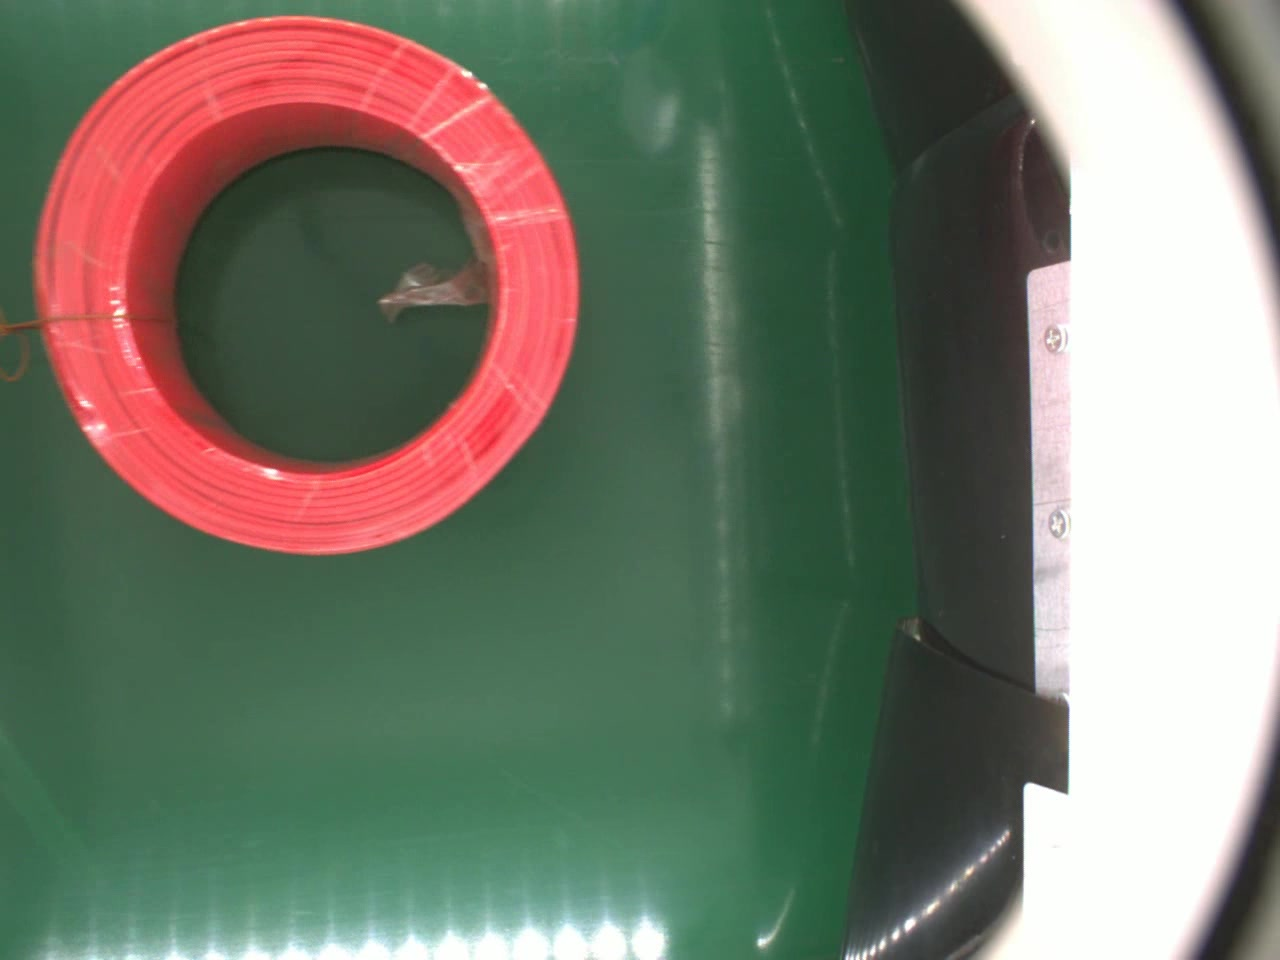red: (39, 11, 586, 559)
